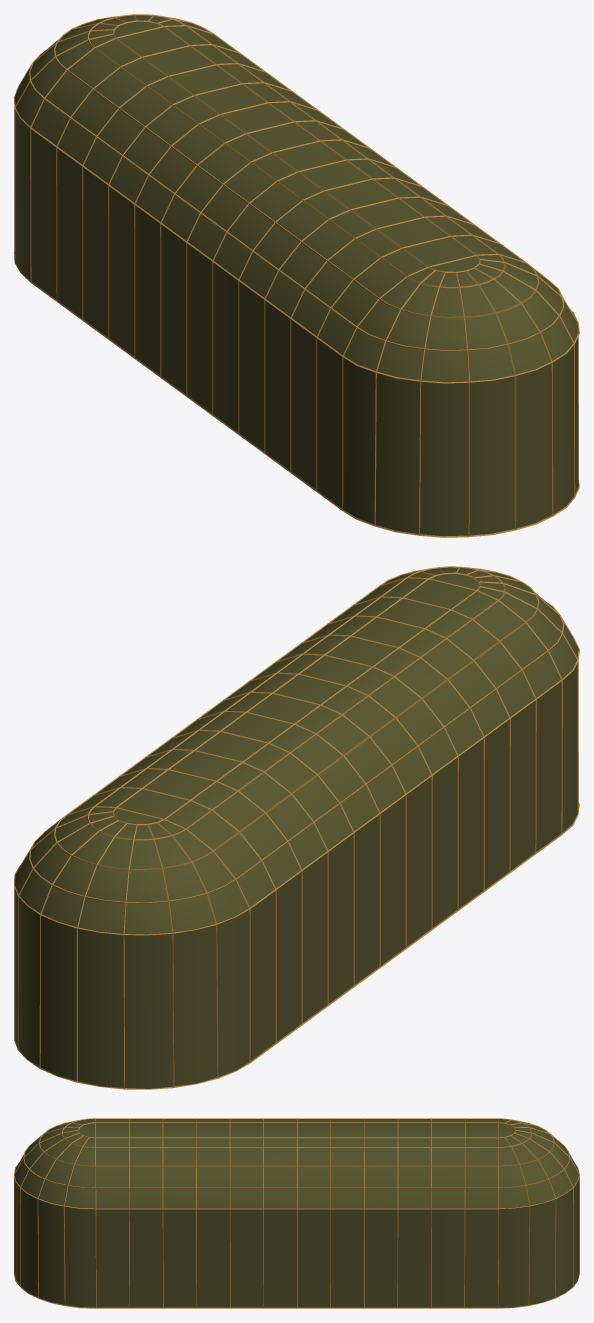
Rendered from PressurizedHangar_Regular.glb.
The picture shows the model from 3 angles, top to bottom: view 1: azimuth 30°, elevation 25°; view 2: azimuth 150°, elevation 25°; view 3: azimuth 270°, elevation 25°; orthographic projection. The views are drawn at different scales.
Visible parts, largest first — view 1: PressurizedFactory_Skin_LOD0, PressurizedFactory_Webbing_LOD0; view 2: PressurizedFactory_Skin_LOD0, PressurizedFactory_Webbing_LOD0; view 3: PressurizedFactory_Skin_LOD0, PressurizedFactory_Webbing_LOD0.
Boxes of the visible parts, <box> form: PressurizedFactory_Skin_LOD0: <box>14,15,578,536</box>; PressurizedFactory_Webbing_LOD0: <box>14,14,579,537</box>; PressurizedFactory_Skin_LOD0: <box>14,567,578,1088</box>; PressurizedFactory_Webbing_LOD0: <box>14,566,579,1089</box>; PressurizedFactory_Skin_LOD0: <box>14,1119,579,1307</box>; PressurizedFactory_Webbing_LOD0: <box>14,1118,579,1308</box>.
Size of what is drawn, in the model's own units: 25.46 by 24.67 by 87.73.
